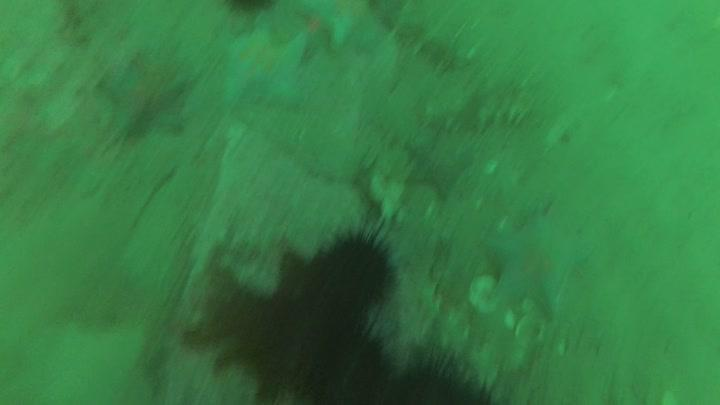urchin: (310, 230, 398, 312), (240, 292, 300, 376), (320, 337, 390, 405), (408, 359, 486, 405), (216, 1, 277, 20)
